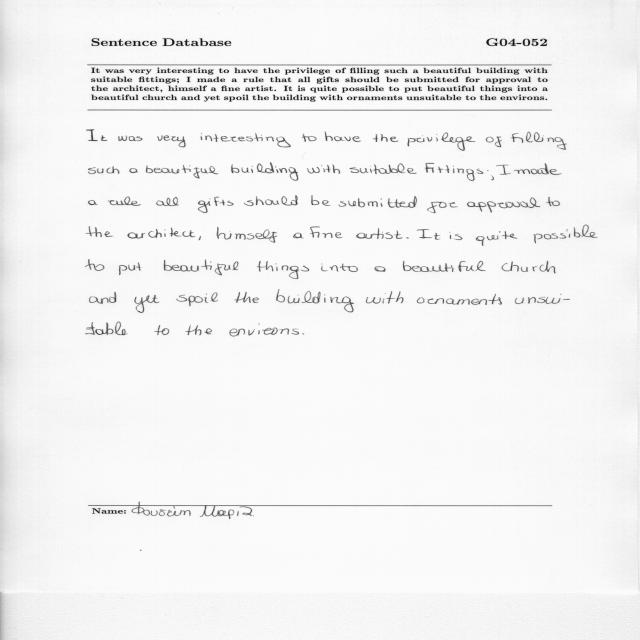word: (276, 290, 354, 313), (200, 133, 291, 148), (407, 132, 476, 151), (231, 163, 299, 181), (164, 260, 239, 276), (533, 225, 598, 243), (467, 198, 540, 213), (425, 163, 484, 181), (511, 132, 567, 150), (229, 323, 299, 337), (216, 227, 277, 243), (146, 165, 218, 178), (339, 196, 417, 208), (257, 261, 309, 279), (417, 294, 502, 305), (403, 261, 486, 272), (349, 164, 417, 175), (128, 228, 196, 239), (502, 261, 556, 273), (476, 231, 518, 246), (514, 163, 562, 175), (515, 294, 570, 304), (176, 293, 218, 306), (86, 322, 128, 335), (244, 196, 298, 206), (356, 228, 402, 239), (366, 291, 403, 304), (134, 295, 160, 313), (325, 131, 361, 142), (310, 227, 343, 238), (157, 135, 186, 147), (427, 202, 458, 213), (108, 196, 141, 206), (90, 292, 117, 304), (86, 226, 114, 237), (307, 165, 340, 174), (321, 264, 358, 272), (119, 262, 141, 275), (234, 292, 259, 303), (185, 326, 212, 336), (417, 229, 441, 240), (89, 166, 120, 174), (85, 259, 105, 271), (87, 130, 108, 141), (311, 195, 331, 206), (373, 134, 399, 142), (156, 197, 179, 206), (198, 198, 210, 213), (214, 197, 234, 206), (486, 137, 502, 148), (496, 165, 511, 175), (155, 325, 170, 335), (302, 133, 317, 142), (546, 197, 560, 206), (118, 136, 143, 141), (450, 232, 463, 240), (374, 266, 386, 272), (487, 170, 494, 180), (293, 233, 304, 238), (129, 168, 138, 173), (89, 200, 98, 205), (198, 236, 201, 240), (302, 333, 304, 335), (406, 238, 409, 239)
